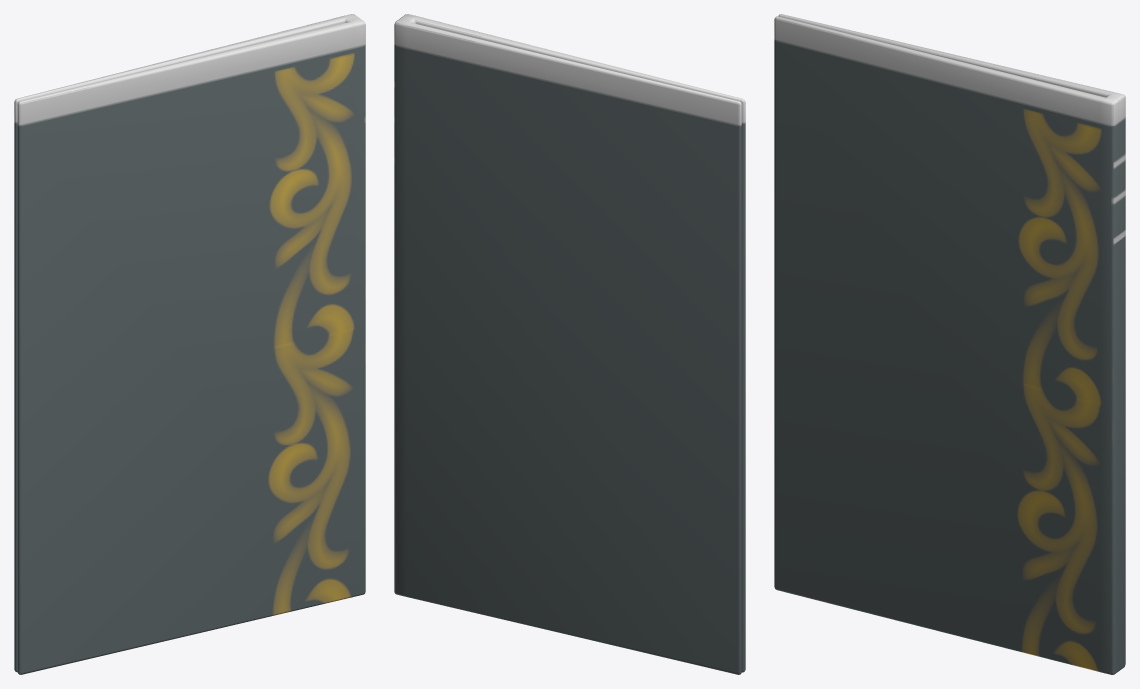
3 views of the same model, side by side, from view 1: azimuth 30°, elevation 25°; view 2: azimuth 150°, elevation 25°; view 3: azimuth 330°, elevation 25° (orthographic).
Visible parts, largest first — view 1: File1; view 2: File1; view 3: File1.
Boxes of the visible parts, <box> form: File1: <box>14,14,365,674</box>; File1: <box>394,14,745,674</box>; File1: <box>774,14,1125,674</box>.
Size of the model in its own units: 124 by 198 by 8.18.
